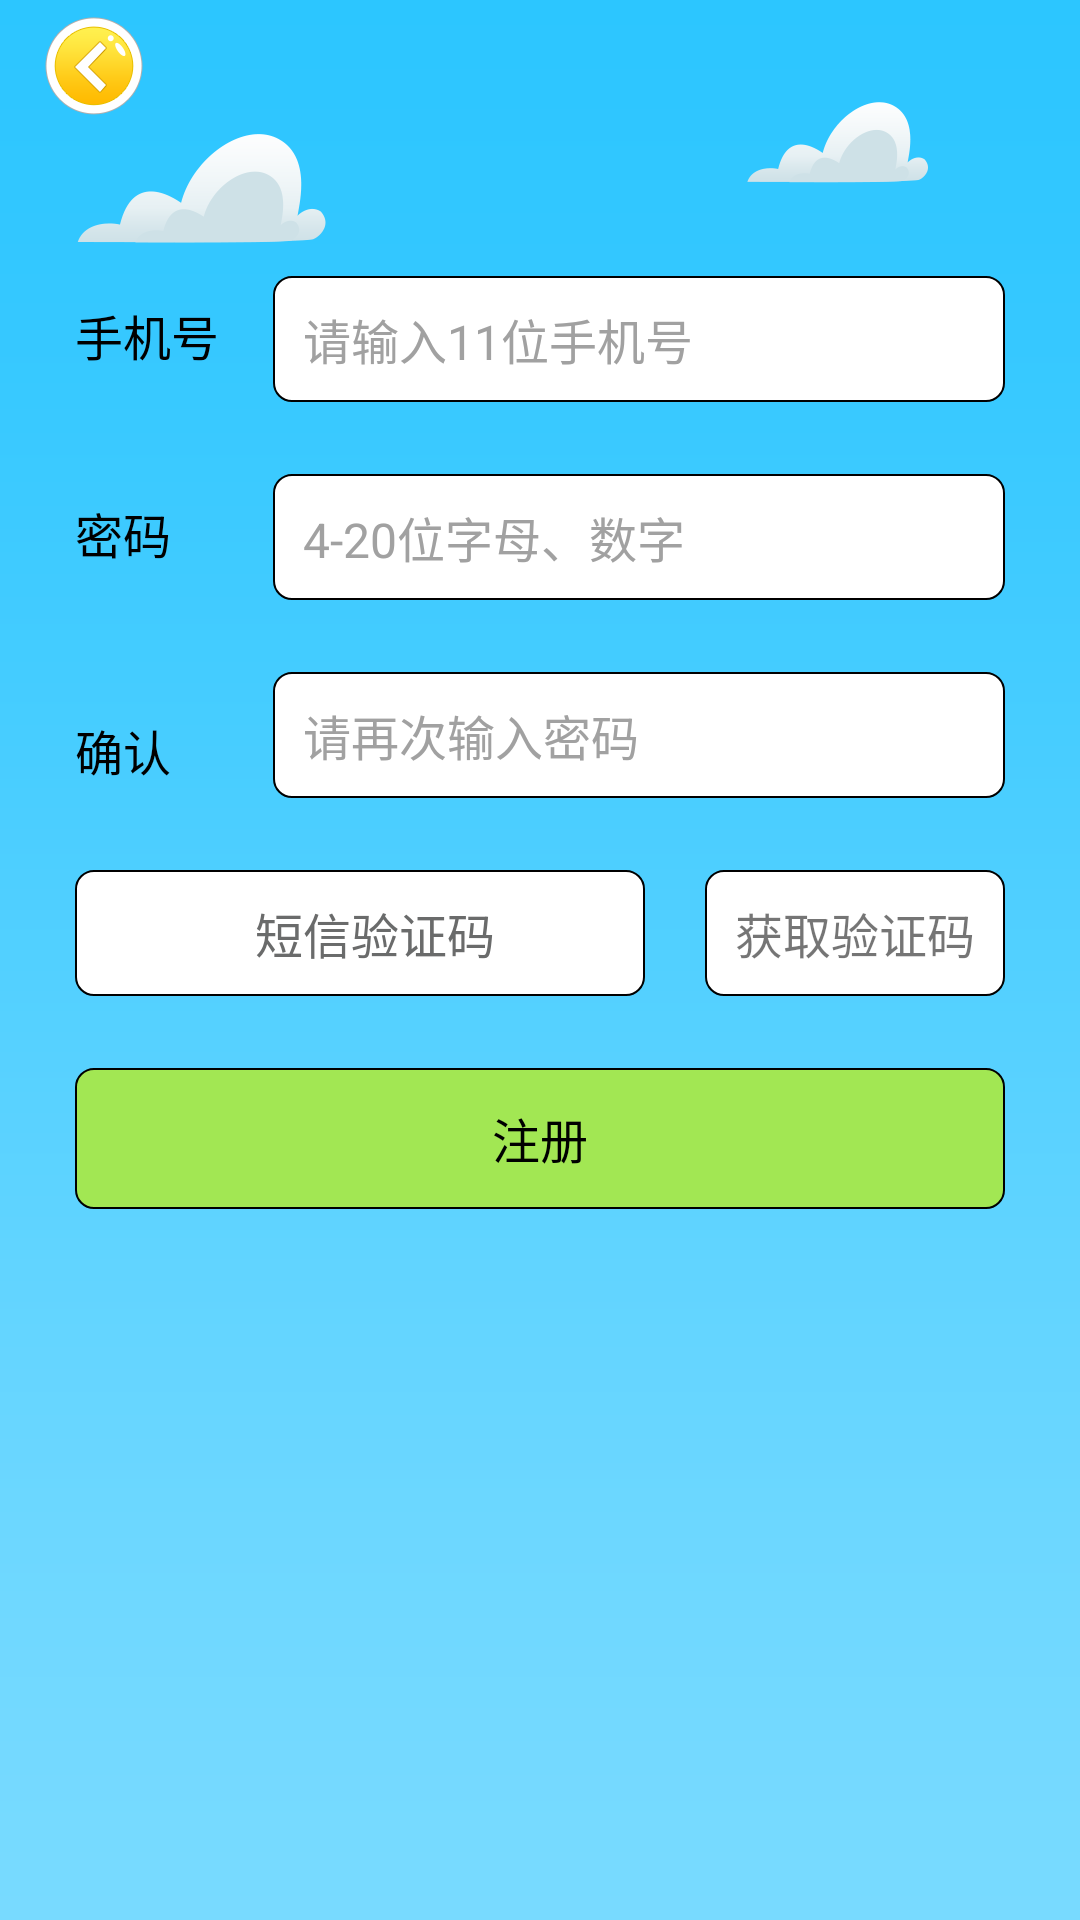

Screen size 1080 x 1920. Icon name, then its box in pixels as detection(x1, y1, x2, y2):
back: detection(45, 17, 143, 115)
